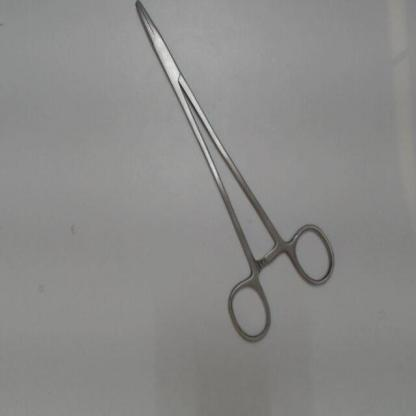8 Mayo Needle Holder: (128, 1, 344, 353)
